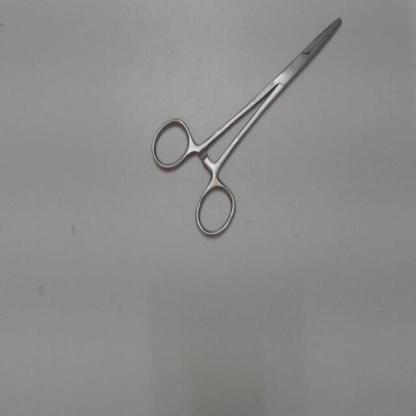Mayo Needle Holder: (146, 5, 356, 252)
